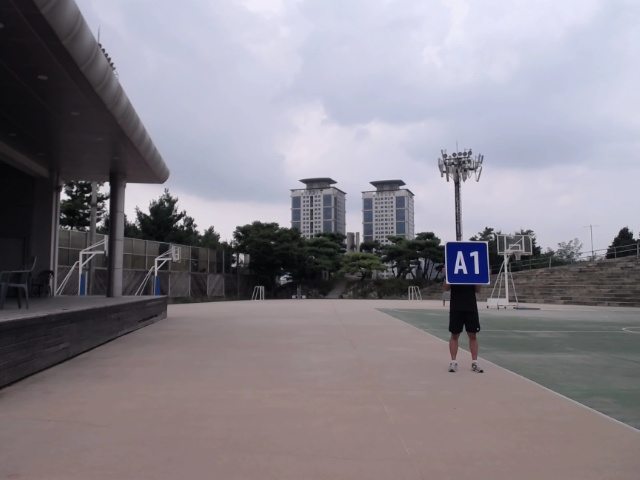delivery_a1: (446, 241, 490, 284)
